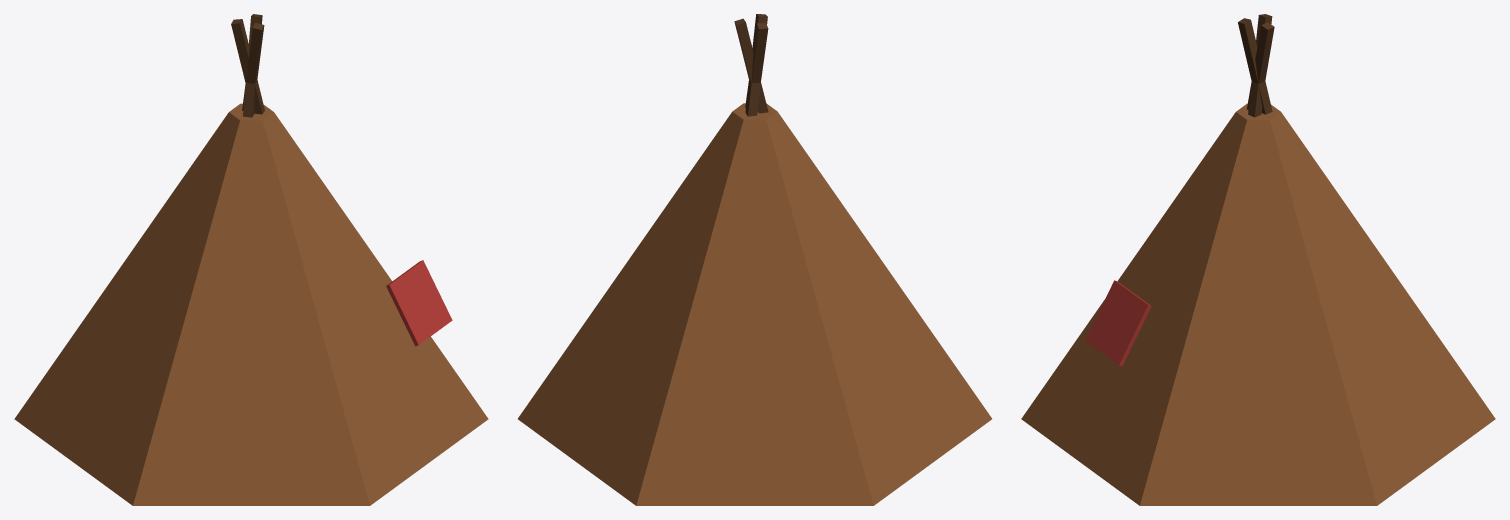
Rendered from goblin_tent.glb.
3 views of the same model, side by side, from view 1: azimuth 30°, elevation 25°; view 2: azimuth 150°, elevation 25°; view 3: azimuth 270°, elevation 25° (orthographic).
Parts seen in each view (by area): view 1: goblin_tent; view 2: goblin_tent; view 3: goblin_tent.
Part boxes in pixels (box(x1,y1,x2,y2)): goblin_tent: box(14, 14, 488, 505); goblin_tent: box(518, 14, 991, 505); goblin_tent: box(1021, 14, 1495, 505).
Bounding box in the file's own units: 1.82 × 1.95 × 2.1.
